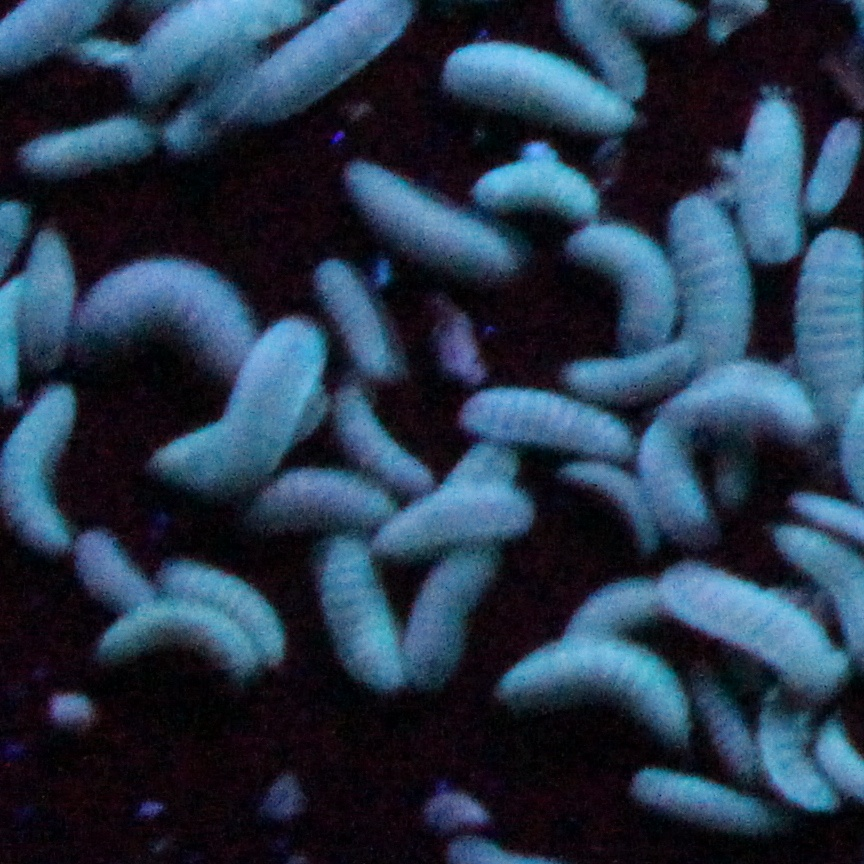larve: (501, 641, 689, 741), (668, 566, 817, 690), (217, 320, 319, 483), (342, 178, 501, 278), (85, 262, 243, 359), (456, 39, 622, 129), (568, 225, 664, 339), (468, 390, 636, 455), (13, 383, 78, 548), (343, 371, 427, 487), (115, 613, 256, 682), (634, 766, 778, 831), (803, 236, 861, 397), (410, 546, 485, 668), (324, 548, 392, 680), (689, 362, 813, 432), (170, 562, 287, 634), (747, 104, 801, 259), (680, 206, 734, 359), (477, 159, 592, 222), (315, 262, 385, 364), (654, 413, 713, 534), (26, 113, 154, 166), (24, 229, 70, 375), (694, 668, 756, 773), (568, 459, 652, 536), (396, 492, 522, 539), (77, 536, 157, 610), (768, 718, 831, 811), (256, 475, 387, 517), (571, 580, 657, 629), (570, 360, 682, 397), (447, 439, 515, 490), (815, 120, 852, 211)
